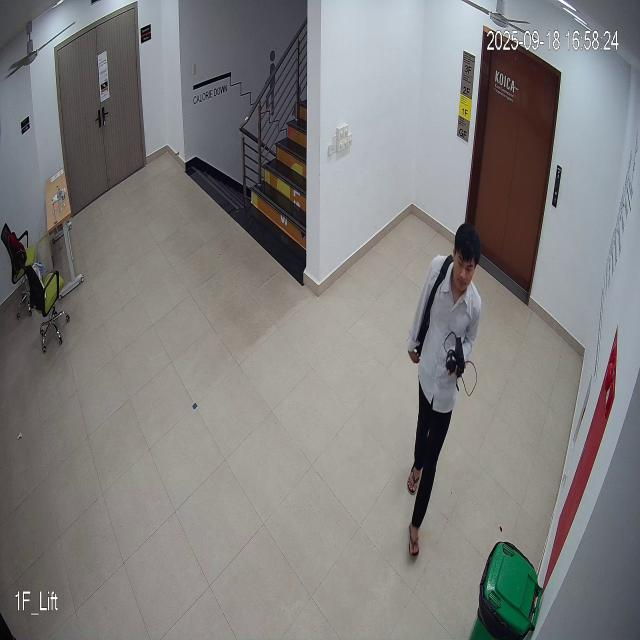face: (447, 224, 482, 297)
